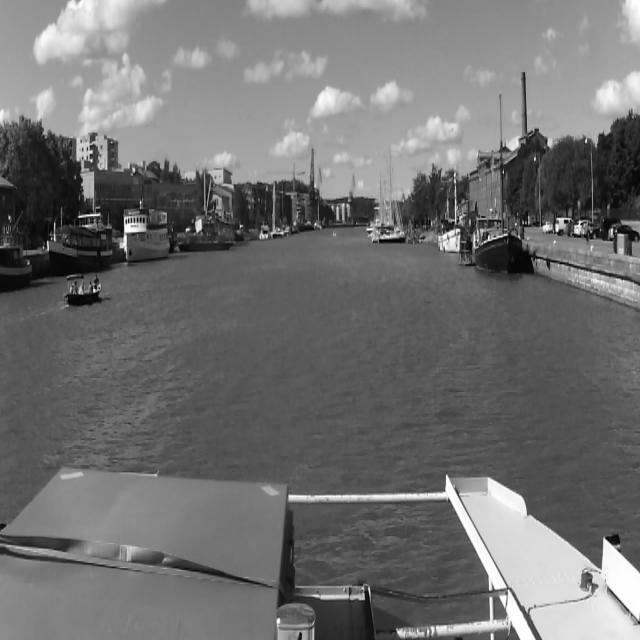ship: (473, 94, 523, 278), (46, 212, 112, 279), (372, 156, 405, 244), (122, 211, 170, 263), (0, 234, 34, 292), (176, 220, 236, 252), (64, 274, 102, 308), (270, 180, 284, 238), (260, 221, 270, 241)
